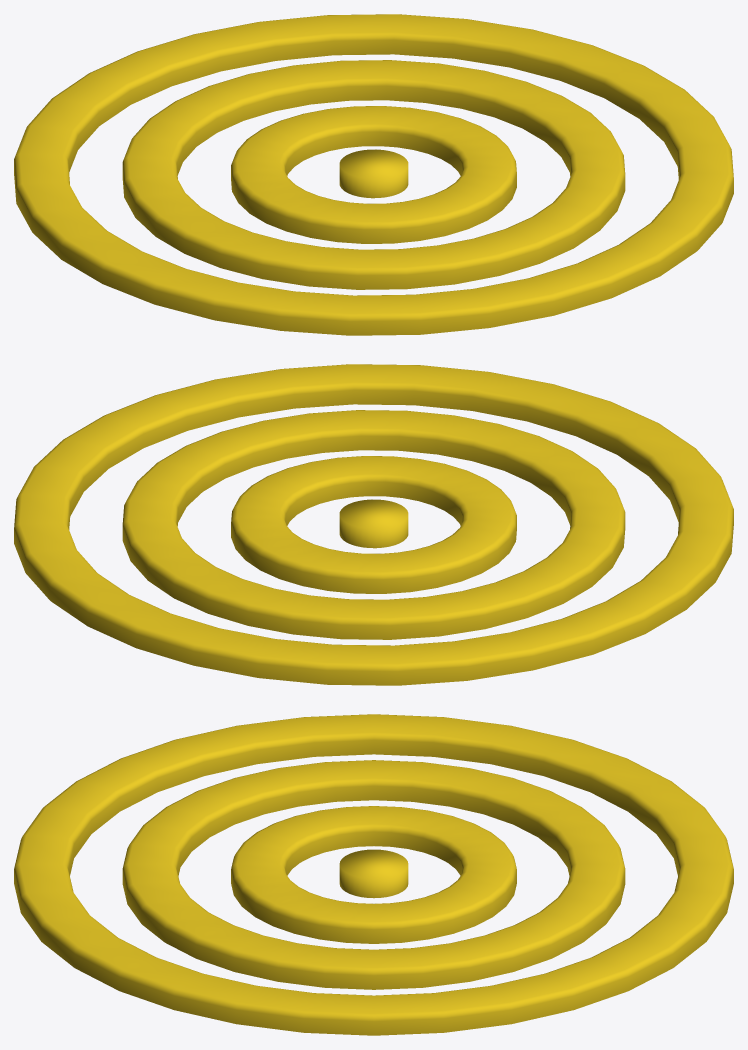
Rendered from Target.fbx.
The picture shows the model from 3 angles, top to bottom: view 1: azimuth 30°, elevation 25°; view 2: azimuth 150°, elevation 25°; view 3: azimuth 270°, elevation 25°; orthographic projection.
Visible parts, largest first — view 1: Circle; view 2: Circle; view 3: Circle.
Boxes of the visible parts, bbox=[...] form: Circle: bbox=[14, 14, 733, 335]; Circle: bbox=[14, 364, 733, 685]; Circle: bbox=[14, 714, 733, 1035].
Size of the model in its own units: 200 by 6 by 200.
